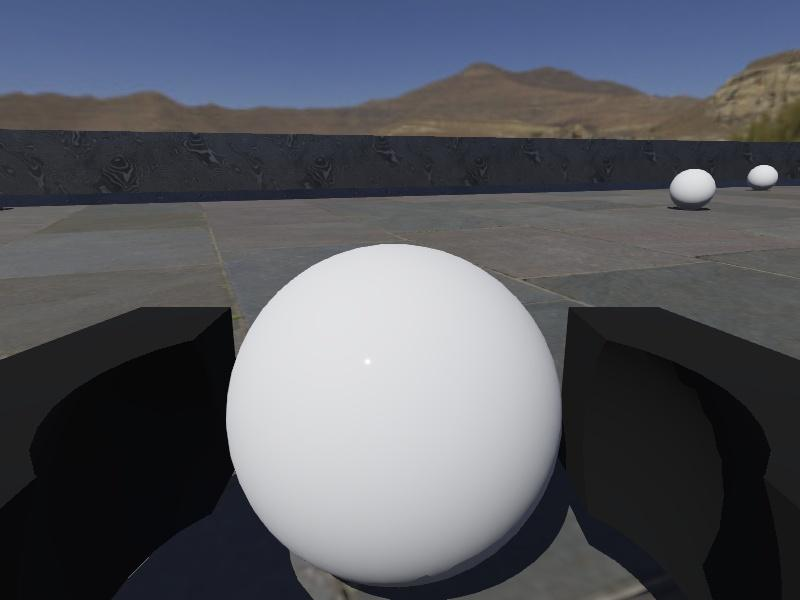white ball: (225, 242, 564, 588), (669, 168, 717, 208), (746, 163, 779, 191)
